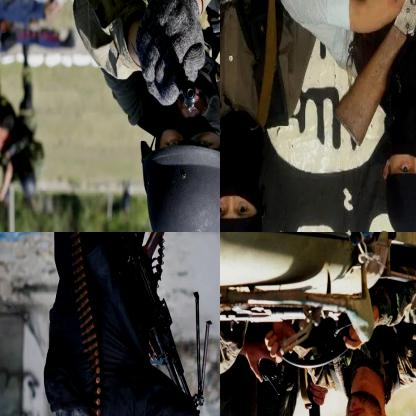pistol: (172, 67, 205, 116)
rifle: (84, 232, 219, 415), (334, 0, 415, 153), (220, 0, 267, 116)
